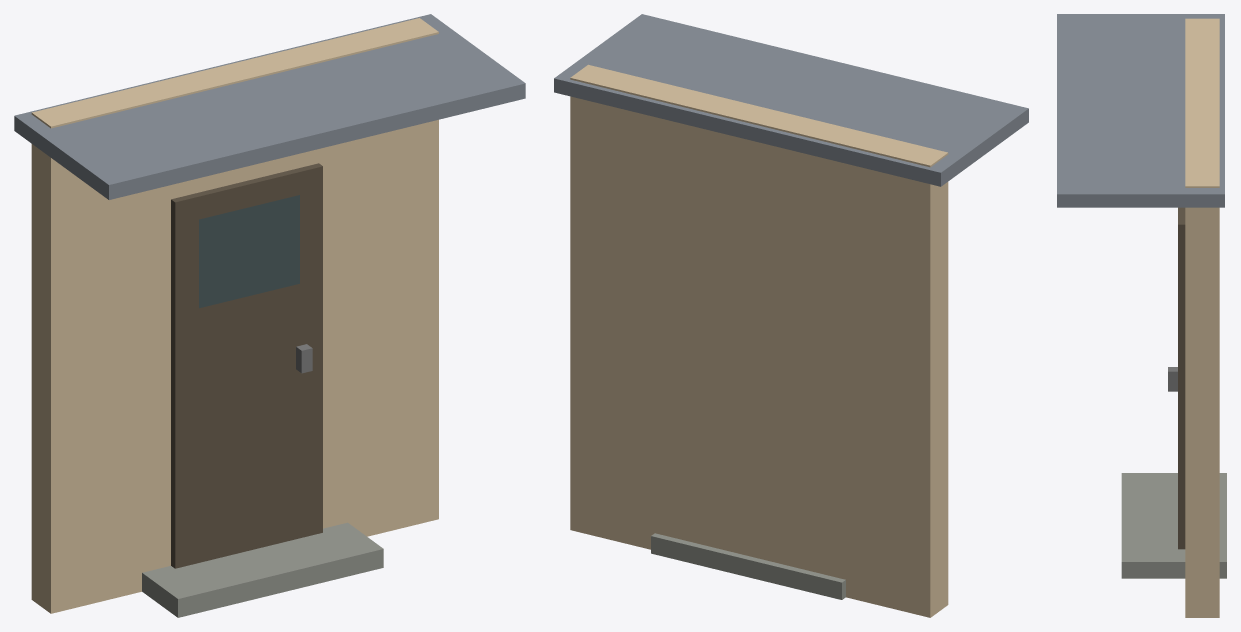
File: entrance.fbx
The picture shows the model from 3 angles, left to right: view 1: azimuth 30°, elevation 25°; view 2: azimuth 150°, elevation 25°; view 3: azimuth 270°, elevation 25°; orthographic projection. The views are drawn at different scales.
Visible parts, largest first — view 1: a2014/0/entrance; view 2: a2014/0/entrance; view 3: a2014/0/entrance.
Part boxes in pixels (x1,y1,x2,y2): a2014/0/entrance: [14, 14, 525, 617]; a2014/0/entrance: [554, 14, 1028, 617]; a2014/0/entrance: [1057, 14, 1226, 617].
Bounding box in the file's own units: 2.31 × 2.58 × 0.92.
